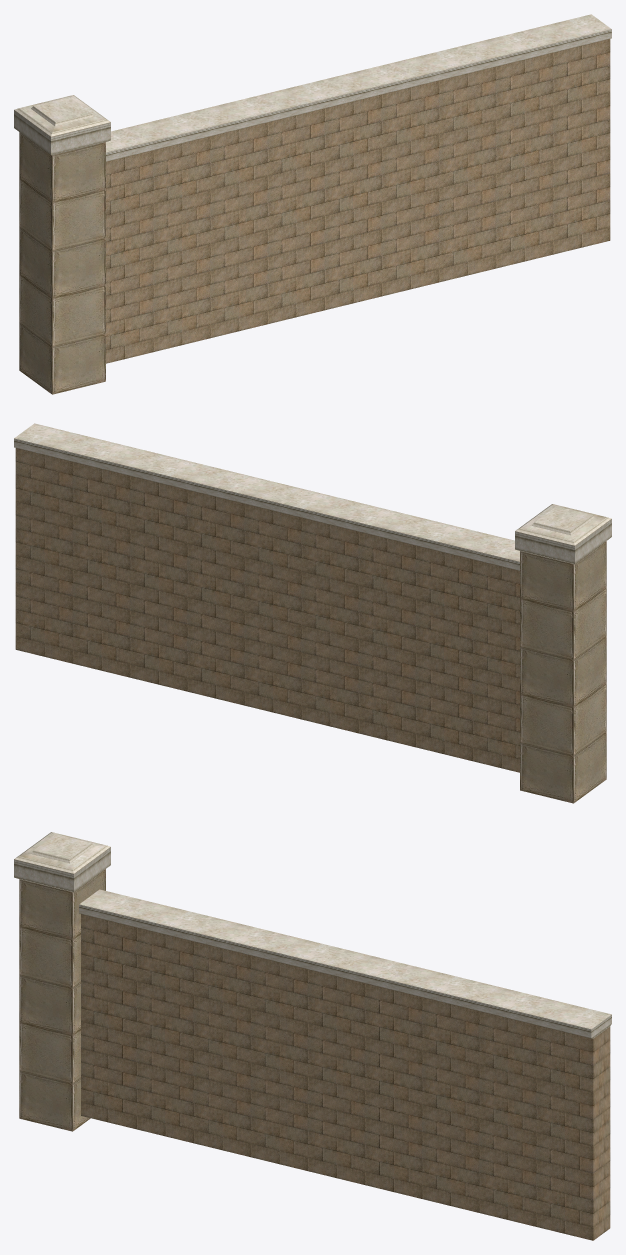
File: thm_nboo_thed_imprv_wall_s01_a1_l0.fbx
The picture shows the model from 3 angles, top to bottom: view 1: azimuth 30°, elevation 25°; view 2: azimuth 150°, elevation 25°; view 3: azimuth 330°, elevation 25°; orthographic projection.
Parts seen in each view (by area): view 1: mesh_node; view 2: mesh_node; view 3: mesh_node.
Boxes of the visible parts, bbox=[...] form: mesh_node: bbox=[14, 14, 611, 394]; mesh_node: bbox=[14, 423, 611, 803]; mesh_node: bbox=[14, 832, 611, 1240].
Size of the model in its own units: 21.58 by 9.65 by 2.43.
1 material, 1 textured.
